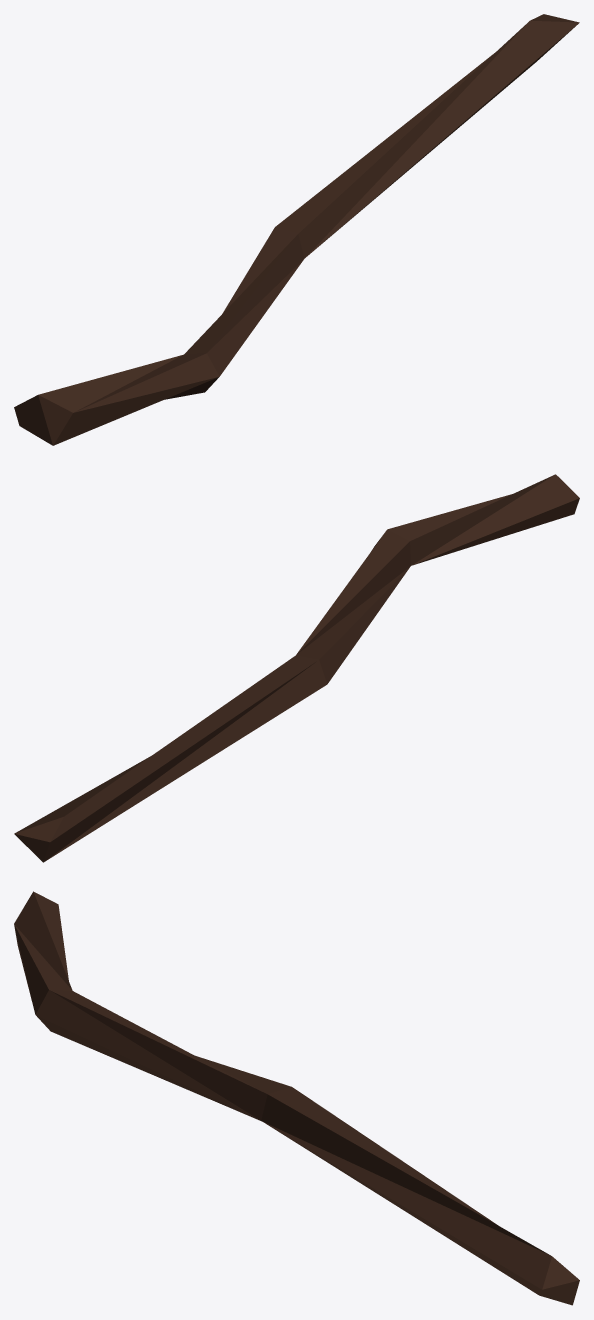
The model's file is Branch_2.fbx.
3 views of the same model, one above another, from view 1: azimuth 30°, elevation 25°; view 2: azimuth 210°, elevation 25°; view 3: azimuth 270°, elevation 25° (orthographic). The views are drawn at different scales.
Visible parts, largest first — view 1: Branch_2; view 2: Branch_2; view 3: Branch_2.
Part boxes in pixels (box(x1,y1,x2,y2)): Branch_2: box(14, 14, 579, 445); Branch_2: box(14, 474, 579, 862); Branch_2: box(14, 891, 579, 1305).
Size of the model in its own units: 1.78 by 0.136 by 1.03.
